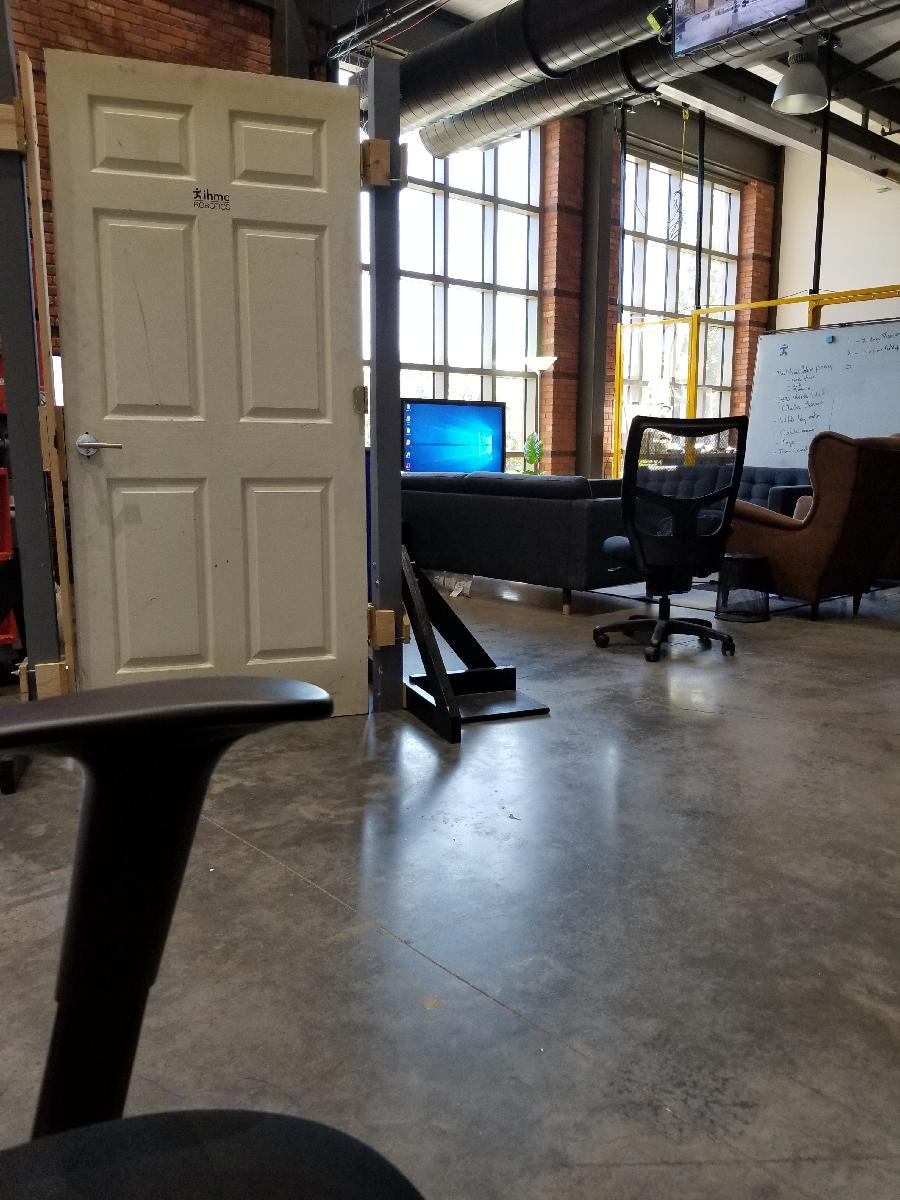door: (41, 44, 374, 726)
doorHandle: (68, 429, 130, 466)
